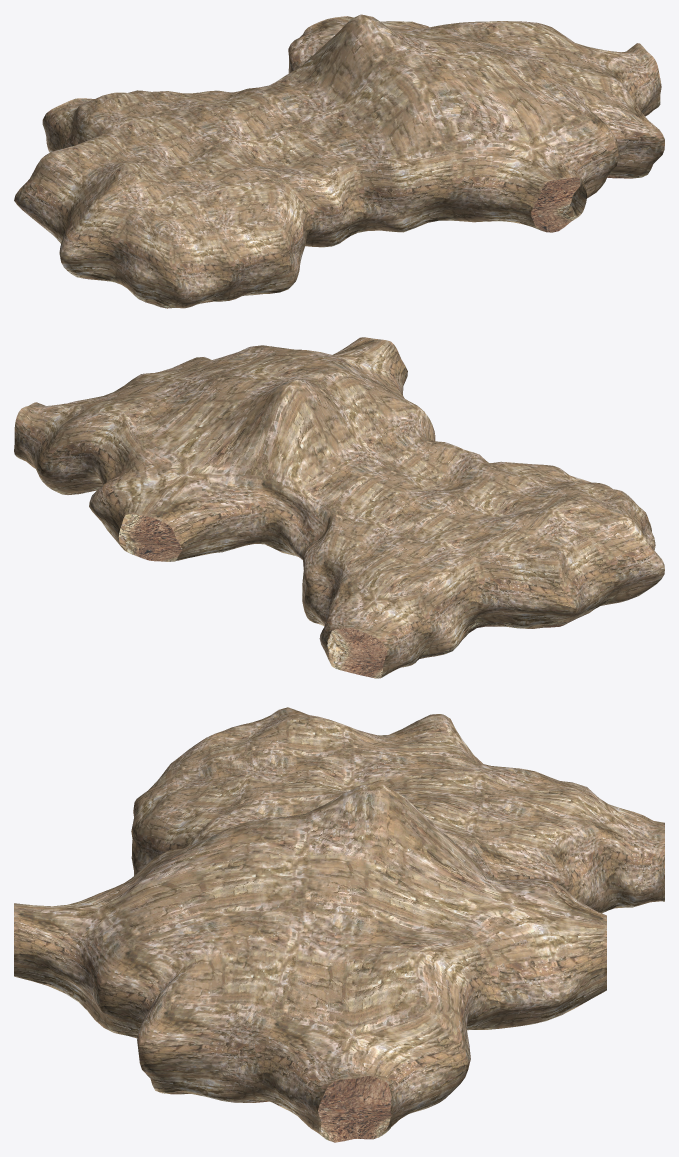
File: thm_tato_cave_s01_r5_rooma_mesh_r5.fbx
3 renders of one model, top to bottom at view 1: azimuth 30°, elevation 25°; view 2: azimuth 150°, elevation 25°; view 3: azimuth 270°, elevation 25°, orthographic. The views are drawn at different scales.
Parts seen in each view (by area): view 1: mesh_node; view 2: mesh_node; view 3: mesh_node.
Boxes of the visible parts, x1=… form: mesh_node: x1=14, y1=14, x2=664, y2=308; mesh_node: x1=14, y1=337, x2=664, y2=678; mesh_node: x1=14, y1=707, x2=664, y2=1142.
Bounding box in the file's own units: 117 × 32.18 × 84.3.
